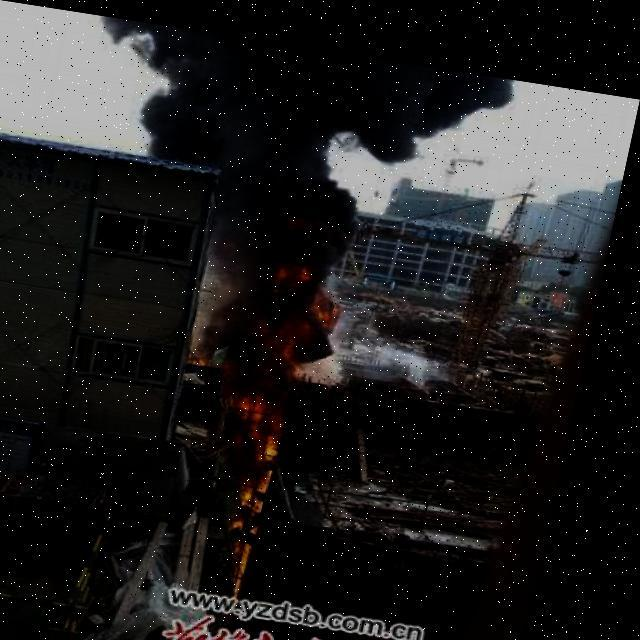Fire: (168, 178, 358, 572)
